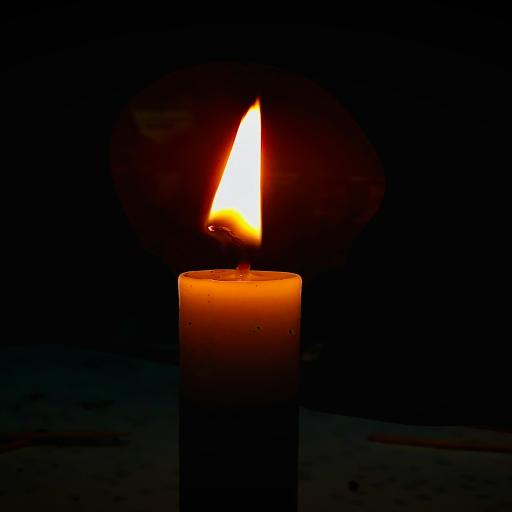candlelight: (167, 86, 293, 512)
